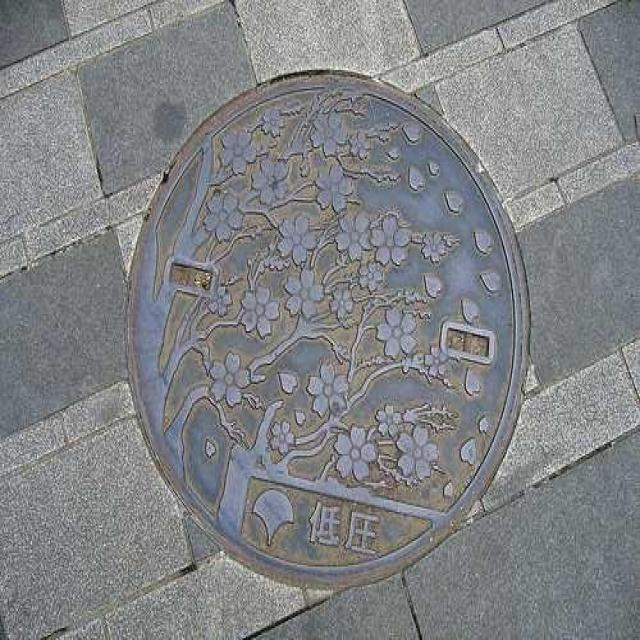manhole: (127, 73, 529, 587)
